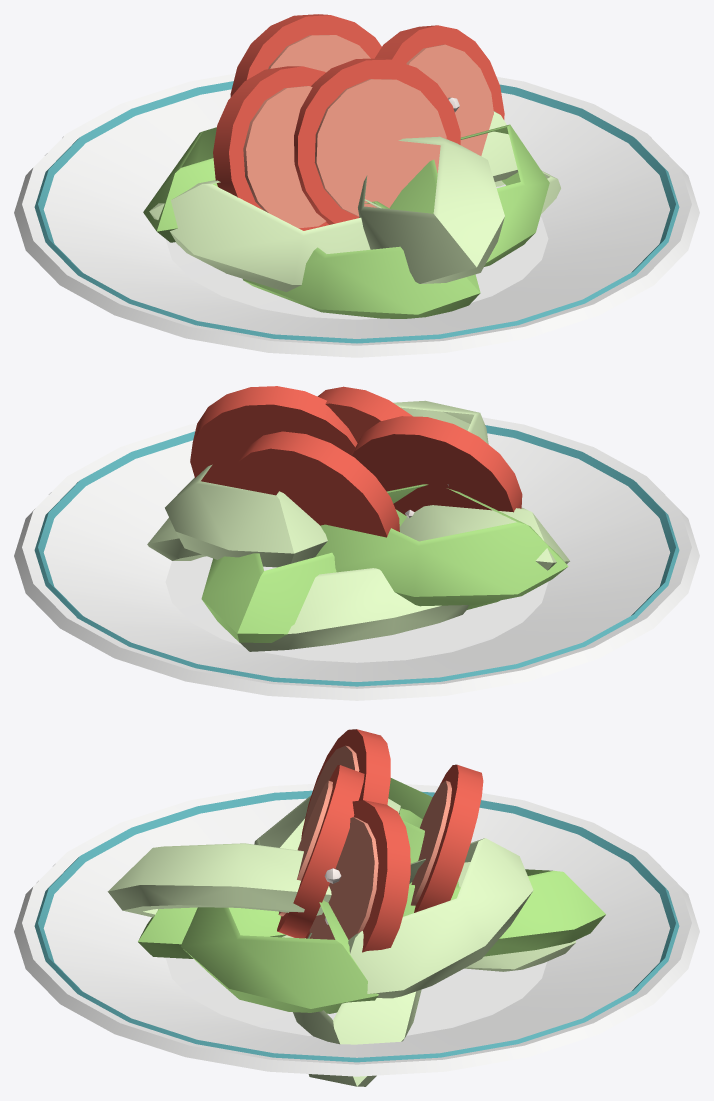
Rendered from kr_p_lettuce_tomato.glb.
3 views of the same model, one above another, from view 1: azimuth 30°, elevation 25°; view 2: azimuth 150°, elevation 25°; view 3: azimuth 270°, elevation 25° (orthographic).
Parts seen in each view (by area): view 1: vc_m0_r2, vc_m0_r4; view 2: vc_m0_r2, vc_m0_r4; view 3: vc_m0_r2, vc_m0_r4.
Boxes of the visible parts, left/top/right/bottom form: vc_m0_r2: left=14, top=14, right=699, bottom=357; vc_m0_r4: left=34, top=35, right=679, bottom=343; vc_m0_r2: left=14, top=386, right=699, bottom=700; vc_m0_r4: left=34, top=400, right=679, bottom=686; vc_m0_r2: left=14, top=729, right=699, bottom=1076; vc_m0_r4: left=34, top=745, right=679, bottom=1086.
Size of the model in its own units: 0.43 by 0.1561 by 0.43.
